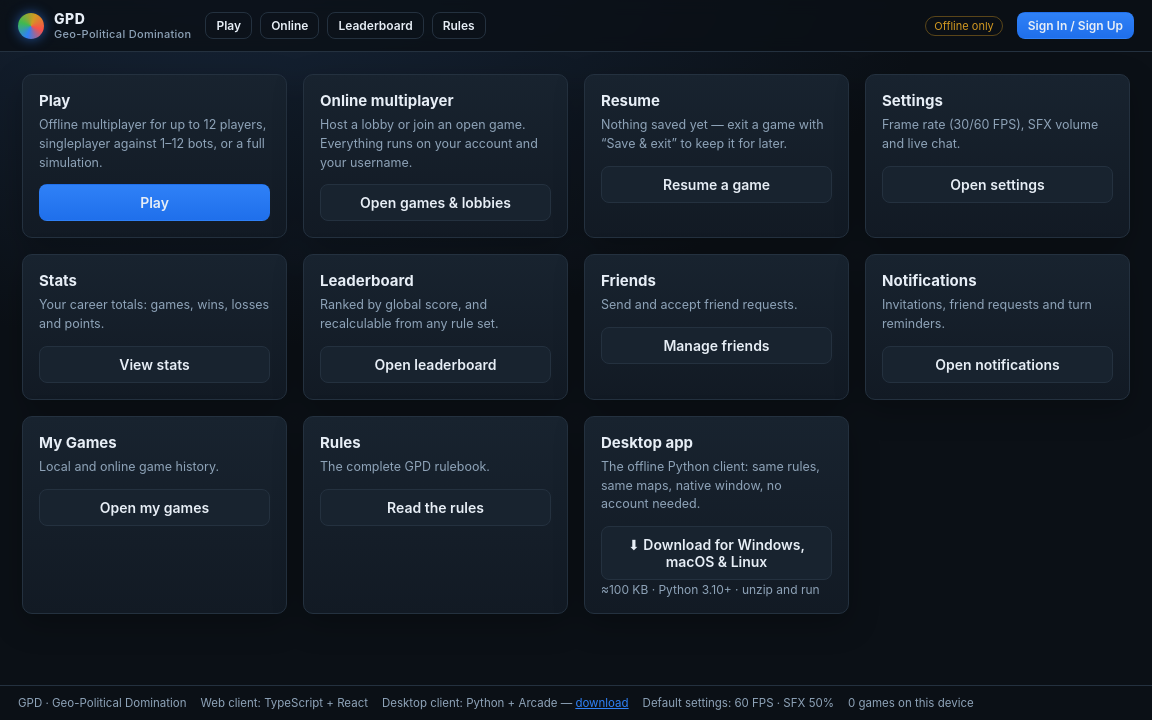
Test case: web client › offers the Classic and Tournament presets and constrains the timers
This screenshot has width=1152, height=720.
Click the button "Play" in the row of "Offline only".
click(229, 26)  # box [206, 12, 252, 39]
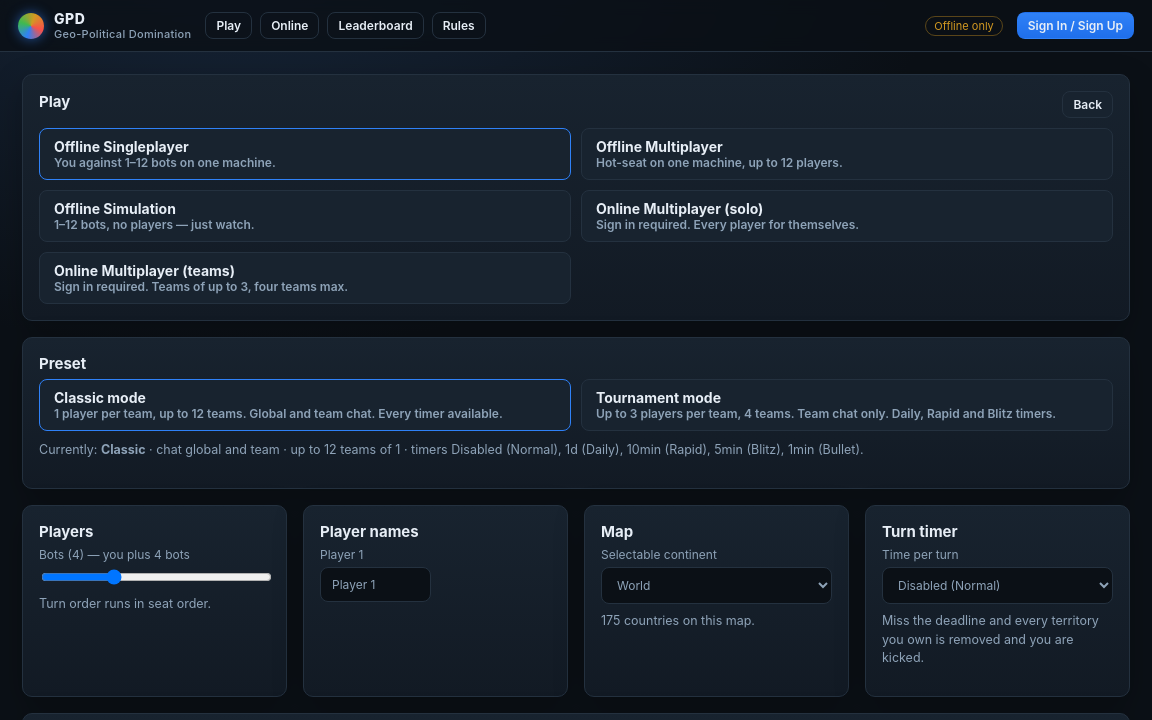
Expected: the text "Classic mode" is shown, [54, 389, 146, 406]
Expected: the text "Tournament mode" is shown
Expected: the text "Disabled (Normal)" is shown, [451, 442, 860, 457]
Click the text "Tournament mode".
click(638, 398)  # box [596, 389, 721, 406]
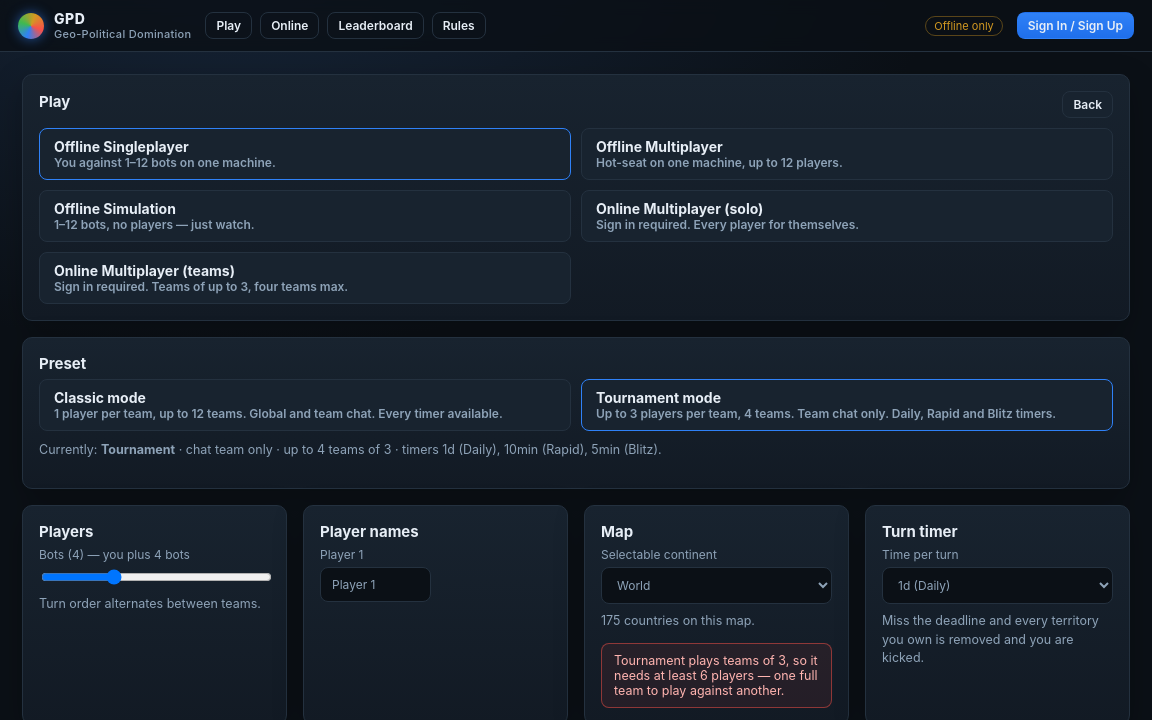
Expected: the text "5min (Blitz)" is shown, [442, 442, 658, 457]
Expected: the text "Disabled (Normal)" is gone
Expected: the text "1min (Bullet)" is not shown
